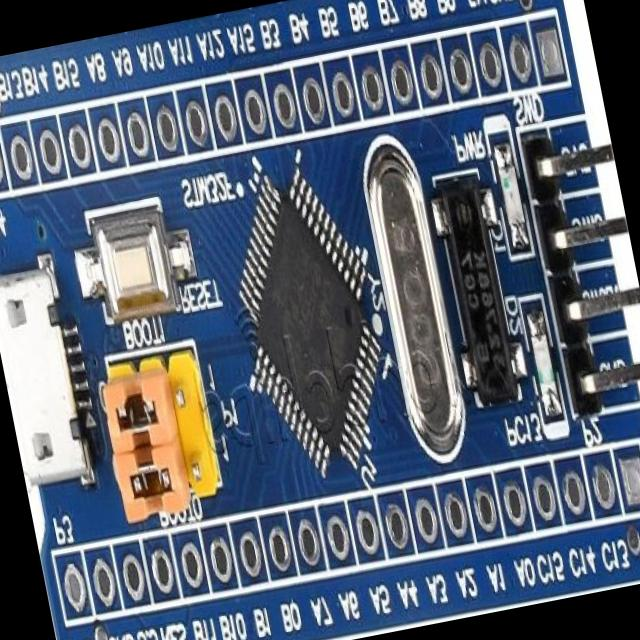IC: (249, 176, 368, 478), (432, 166, 525, 398)
LED: (524, 301, 568, 418), (490, 132, 532, 246)
connector: (522, 121, 640, 415), (0, 257, 98, 486), (165, 356, 217, 494), (101, 362, 179, 454), (114, 446, 192, 527)
